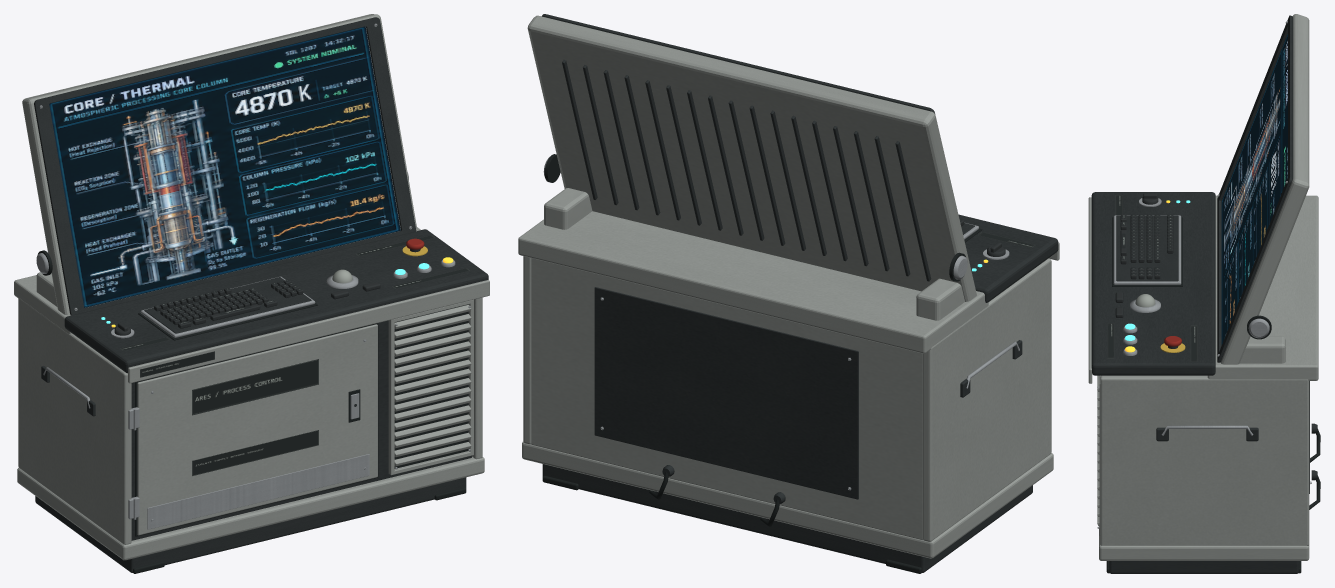
Rendered from control_console_after.glb.
3 views of the same model, side by side, from view 1: azimuth 30°, elevation 25°; view 2: azimuth 150°, elevation 25°; view 3: azimuth 270°, elevation 25° (orthographic). The views are drawn at different scales.
Visible parts, largest first — view 1: Ares control console review mesh; view 2: Ares control console review mesh; view 3: Ares control console review mesh.
Boxes of the visible parts, x1,y1,x2,y2 form: Ares control console review mesh: (14,14,489,573); Ares control console review mesh: (518,14,1059,573); Ares control console review mesh: (1088,14,1320,573).
Size of the model in its own units: 1.52 by 1.62 by 0.8544.
Materials: 13 (6 with a texture image).
